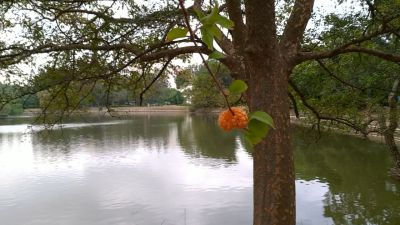eggs: (217, 105, 250, 135)
